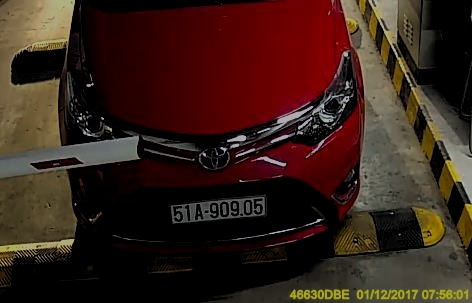plate: (170, 196, 270, 222)
